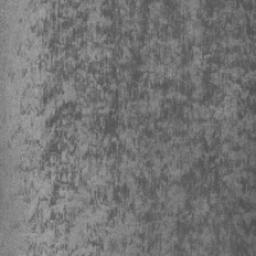Silk spot: (7, 0, 256, 256)
